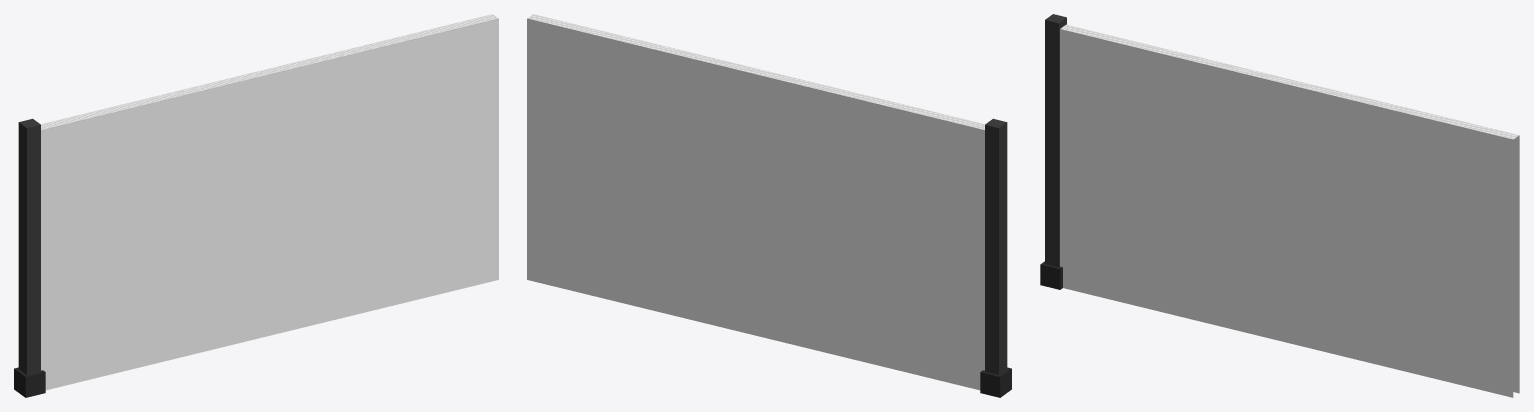
Rendered from SM_Floor_RoadPart_06.fbx.
3 renders of one model, left to right at view 1: azimuth 30°, elevation 25°; view 2: azimuth 150°, elevation 25°; view 3: azimuth 330°, elevation 25°, orthographic.
Parts seen in each view (by area): view 1: SM_Floor_RoadPart_06; view 2: SM_Floor_RoadPart_06; view 3: SM_Floor_RoadPart_06.
Part boxes in pixels (bbox=[...]): SM_Floor_RoadPart_06: bbox=[14, 14, 498, 397]; SM_Floor_RoadPart_06: bbox=[527, 14, 1011, 397]; SM_Floor_RoadPart_06: bbox=[1040, 14, 1519, 397].
Size of the model in its own units: 255 by 137 by 10.75.
